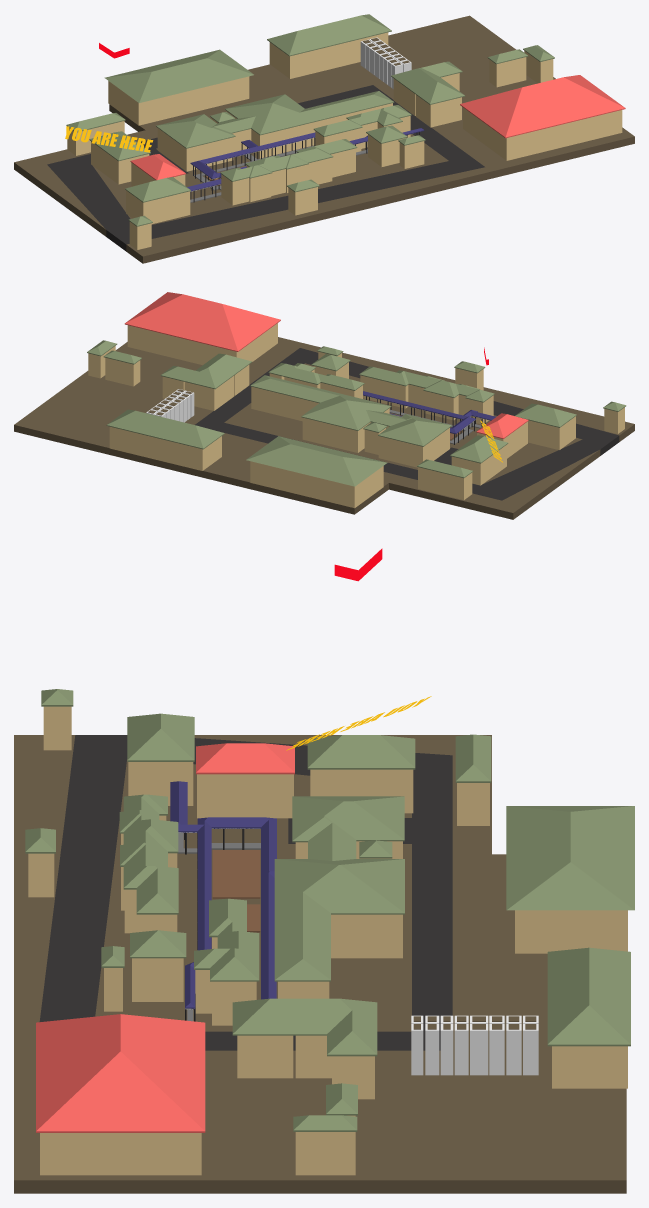
File: mapITYAH.glb
3 renders of one model, top to bottom at view 1: azimuth 30°, elevation 25°; view 2: azimuth 150°, elevation 25°; view 3: azimuth 270°, elevation 25°, orthographic. The views are drawn at different scales.
Parts seen in each view (by area): view 1: Toposolid Grassland - 1200mm [352516], Toposolid Grassland - 1200mm [354195], Basic Roof Generic - 125mm [387914], Basic Roof Generic - 125mm [384035], Basic Roof Generic - 125mm [378573], Basic Wall Generic - 200mm [355787], Basic Wall Generic - 200mm [355672], Basic Roof Generic - 125mm [385592], Basic Roof Generic - 125mm [385698], Basic Roof Generic - 125mm [387351], Basic Wall Generic - 200mm [355773], Basic Wall Generic - 200mm [357350] (+34 smaller); view 2: Toposolid Grassland - 1200mm [352516], Toposolid Grassland - 1200mm [354195], Basic Roof Generic - 125mm [387914], Basic Roof Generic - 125mm [384035], Basic Roof Generic - 125mm [378573], Basic Wall Generic - 200mm [355757], Basic Roof Generic - 125mm [385592], Basic Wall Generic - 200mm [355771], Basic Wall Generic - 200mm [355789], Basic Roof Generic - 125mm [385698], Basic Roof Generic - 125mm [387351], Basic Wall Generic - 200mm [357221] (+26 smaller); view 3: Toposolid Grassland - 1200mm [352516], Toposolid Grassland - 1200mm [354195], Basic Roof Generic - 125mm [387914], Basic Roof Generic - 125mm [384035], Basic Roof Generic - 125mm [378573], Basic Roof Generic - 125mm [385592], Basic Wall Generic - 200mm [355788], Basic Roof Generic - 125mm [389243], Basic Roof Generic - 125mm [387351], Basic Roof Generic - 125mm [385698], Basic Wall Generic - 200mm [355719], Basic Wall Generic - 200mm [356699] (+24 smaller).
Part boxes in pixels (x1,y1,x2,y2): Toposolid Grassland - 1200mm [352516]: [14, 15, 634, 263]; Toposolid Grassland - 1200mm [354195]: [47, 85, 484, 251]; Basic Roof Generic - 125mm [387914]: [460, 75, 625, 138]; Basic Roof Generic - 125mm [384035]: [156, 91, 394, 148]; Basic Roof Generic - 125mm [378573]: [104, 49, 253, 102]; Basic Wall Generic - 200mm [355787]: [508, 110, 622, 160]; Basic Wall Generic - 200mm [355672]: [140, 76, 249, 125]; Basic Roof Generic - 125mm [385592]: [267, 14, 391, 56]; Basic Roof Generic - 125mm [385698]: [220, 139, 357, 181]; Basic Roof Generic - 125mm [387351]: [391, 61, 464, 104]; Basic Wall Generic - 200mm [355773]: [291, 32, 388, 78]; Basic Wall Generic - 200mm [357350]: [259, 103, 391, 158]; Toposolid Grassland - 1200mm [352516]: [14, 337, 634, 519]; Toposolid Grassland - 1200mm [354195]: [195, 348, 619, 500]; Basic Roof Generic - 125mm [387914]: [124, 292, 280, 351]; Basic Roof Generic - 125mm [384035]: [250, 375, 451, 446]; Basic Roof Generic - 125mm [378573]: [246, 436, 387, 486]; Basic Wall Generic - 200mm [355757]: [251, 461, 353, 507]; Basic Roof Generic - 125mm [385592]: [106, 409, 224, 449]; Basic Wall Generic - 200mm [355771]: [110, 427, 202, 470]; Basic Wall Generic - 200mm [355789]: [128, 325, 237, 365]; Basic Roof Generic - 125mm [385698]: [359, 366, 494, 402]; Basic Roof Generic - 125mm [387351]: [160, 353, 251, 389]; Basic Wall Generic - 200mm [357221]: [251, 386, 318, 421]; Toposolid Grassland - 1200mm [352516]: [14, 735, 626, 1193]; Toposolid Grassland - 1200mm [354195]: [39, 735, 452, 1050]; Basic Roof Generic - 125mm [387914]: [36, 1014, 205, 1132]; Basic Roof Generic - 125mm [384035]: [274, 796, 404, 981]; Basic Roof Generic - 125mm [378573]: [506, 806, 634, 910]; Basic Roof Generic - 125mm [385592]: [547, 947, 630, 1046]; Basic Wall Generic - 200mm [355788]: [42, 1133, 201, 1175]; Basic Roof Generic - 125mm [389243]: [170, 781, 276, 1009]; Basic Roof Generic - 125mm [387351]: [232, 998, 377, 1056]; Basic Roof Generic - 125mm [385698]: [119, 794, 178, 914]; Basic Wall Generic - 200mm [355719]: [517, 910, 627, 953]; Basic Wall Generic - 200mm [356699]: [199, 774, 293, 818].
Size of the model in its own units: 86 by 22.54 by 50.68.
